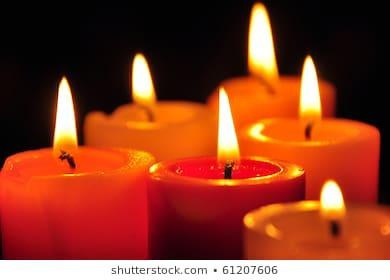fire: (245, 2, 279, 84), (51, 72, 78, 156), (214, 84, 238, 163), (298, 51, 322, 124), (129, 51, 156, 107), (319, 177, 344, 210), (248, 119, 270, 141)
